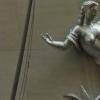Statue: (28, 7, 100, 64)
